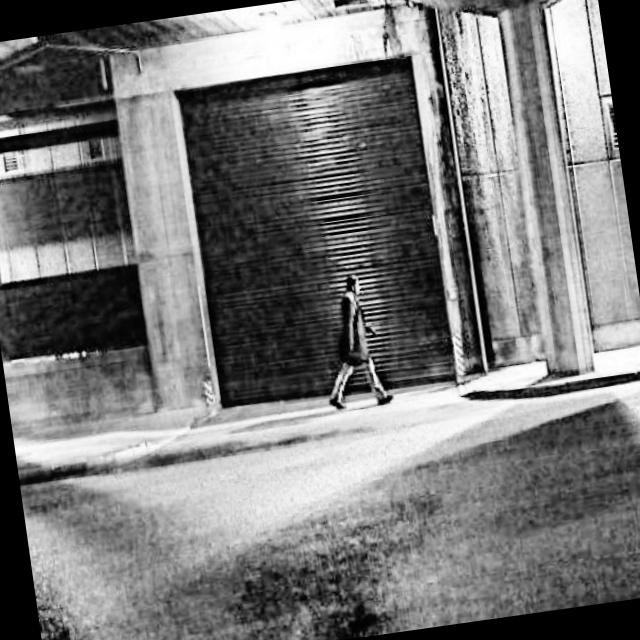Person: (310, 264, 397, 416)
